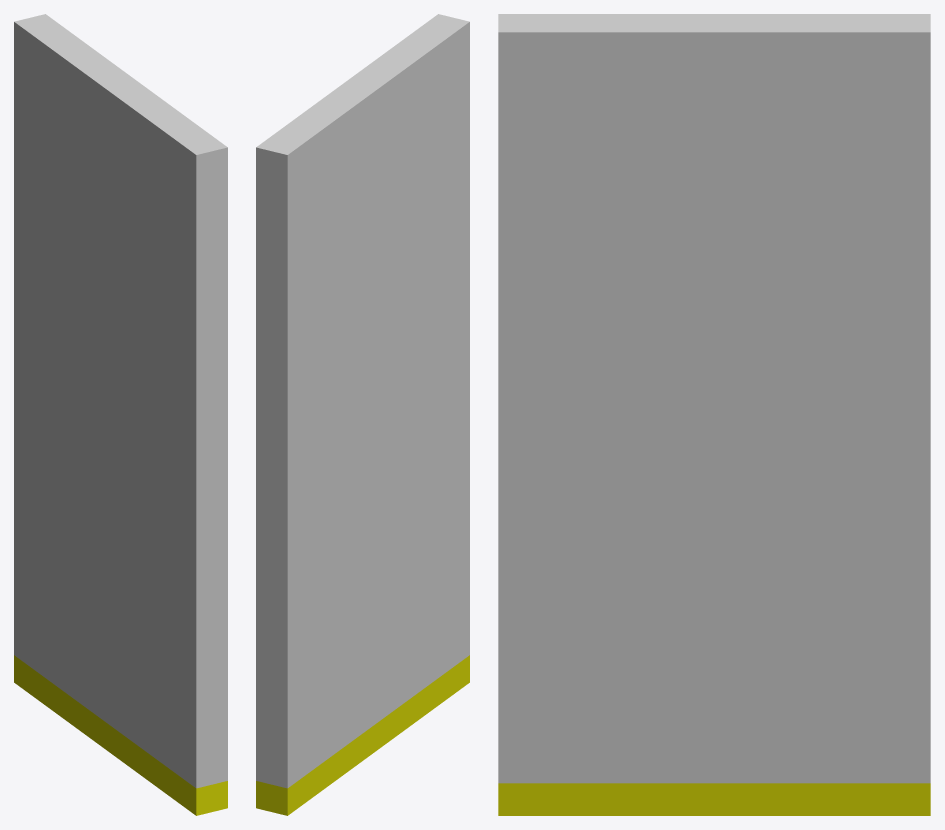
Rendered from door.fbx.
3 views of the same model, side by side, from view 1: azimuth 30°, elevation 25°; view 2: azimuth 150°, elevation 25°; view 3: azimuth 270°, elevation 25° (orthographic). The views are drawn at different scales.
Visible parts, largest first — view 1: Door; view 2: Door; view 3: Door.
Boxes of the visible parts, x1,y1,x2,y2 form: Door: (14, 14, 227, 815); Door: (256, 14, 469, 815); Door: (498, 14, 930, 815).
Bounding box in the file's own units: 20 × 400 × 200.
